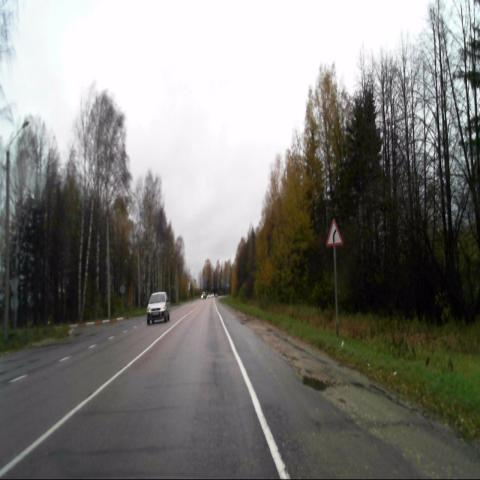1_11: (325, 217, 344, 248)
